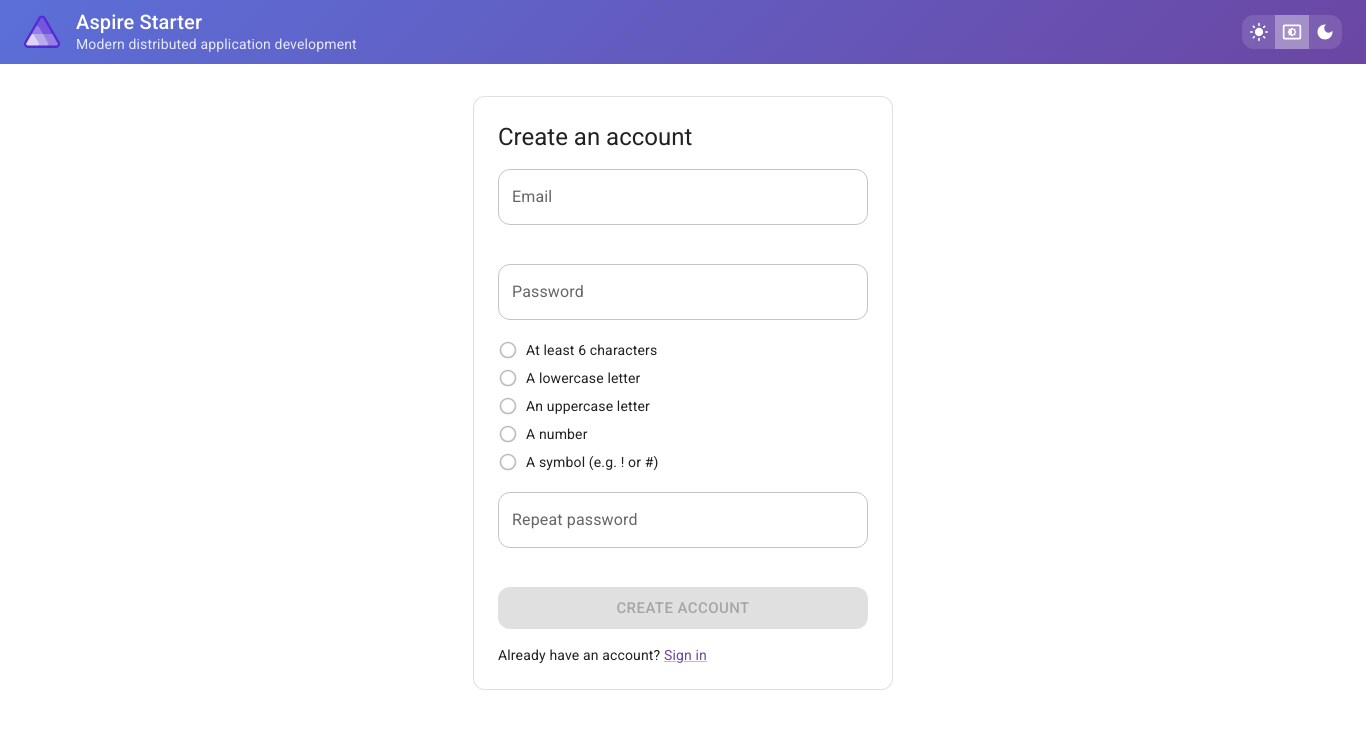
it: RegisterPage › registers, signs in automatically and shows the forecast
Type "new@example.com" into the field labelled "Email" at (683, 197), box [498,169,868,225]
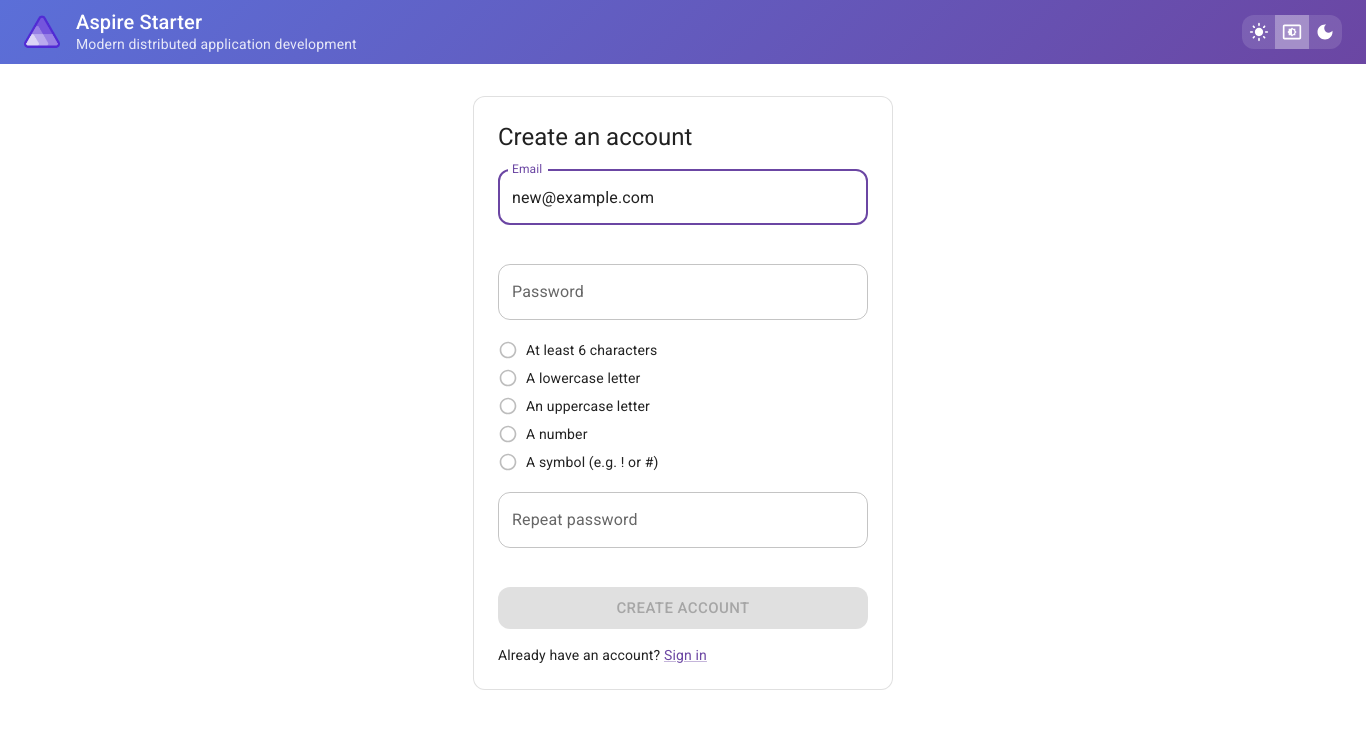
Type "Passw0rd!" into the password field labelled "Password" at (683, 292), box [498,264,868,320]
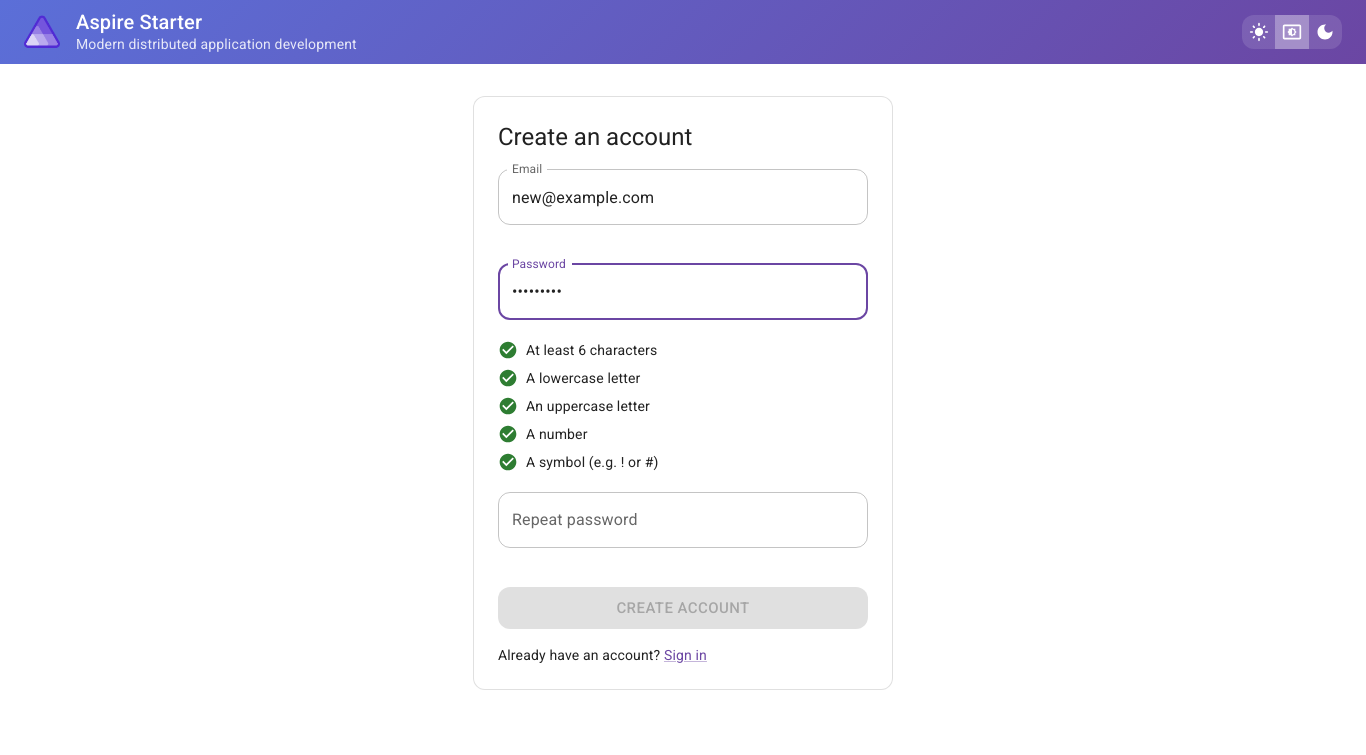
Type "Passw0rd!" into the password field labelled "Repeat password" at (683, 520), box [498,492,868,548]
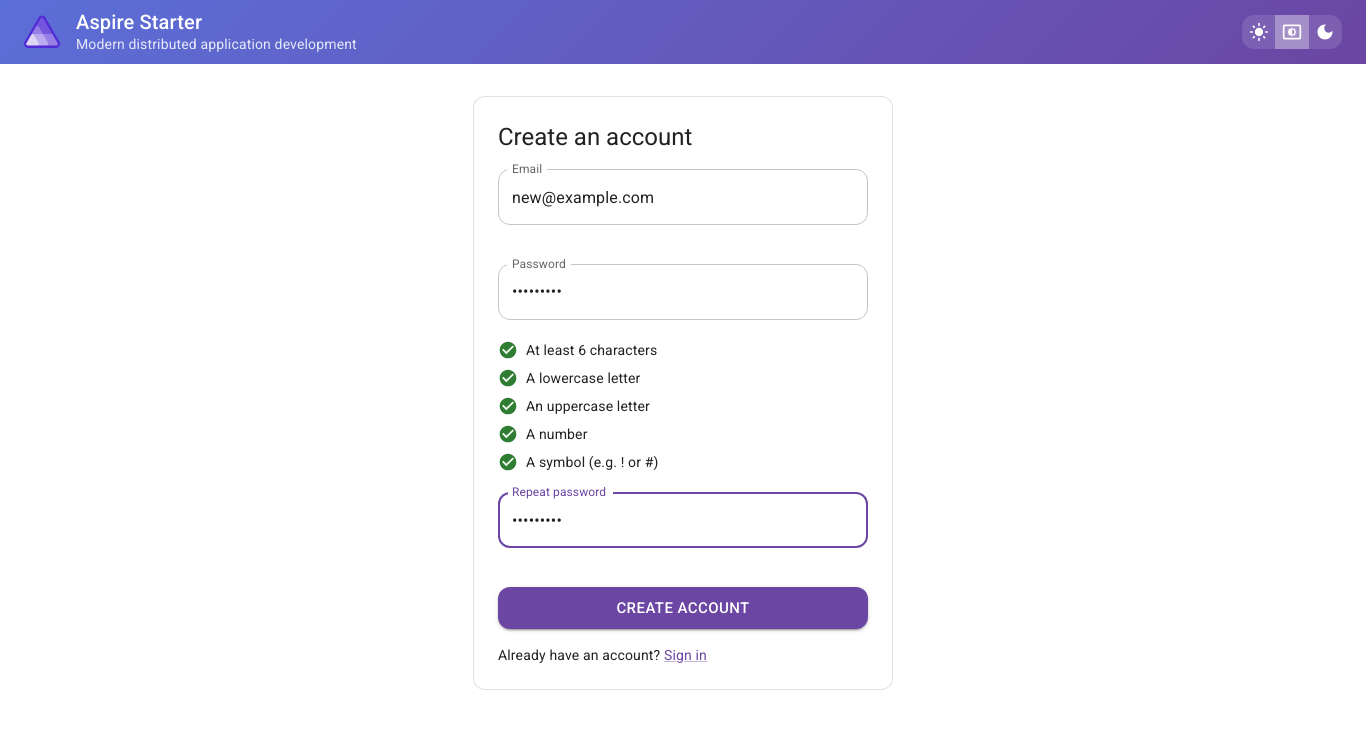
Click the button "Create account" at (683, 608), box [498,587,868,629]
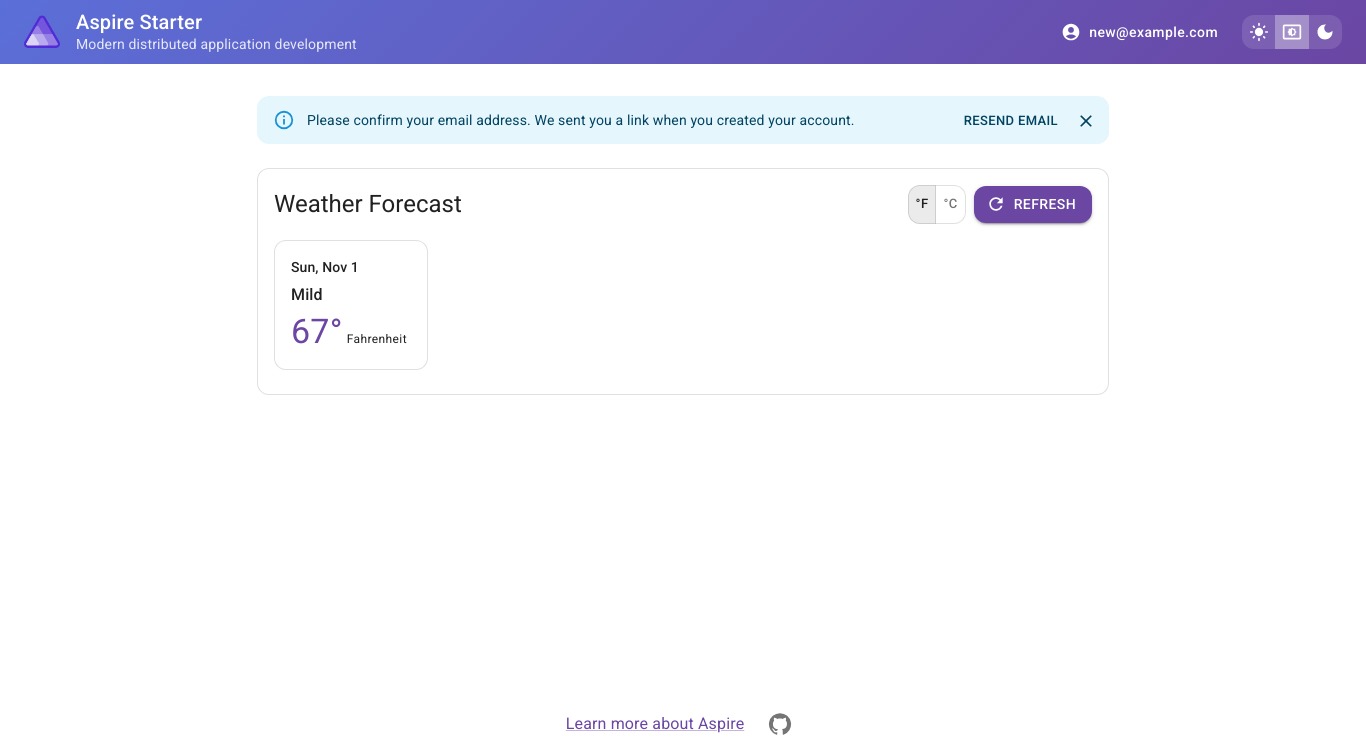
Result: the text "Mild" is shown at [291,285,323,304]
Result: the button with aria-label "Account menu for new@example.com" is shown at [1057,14,1226,50]
